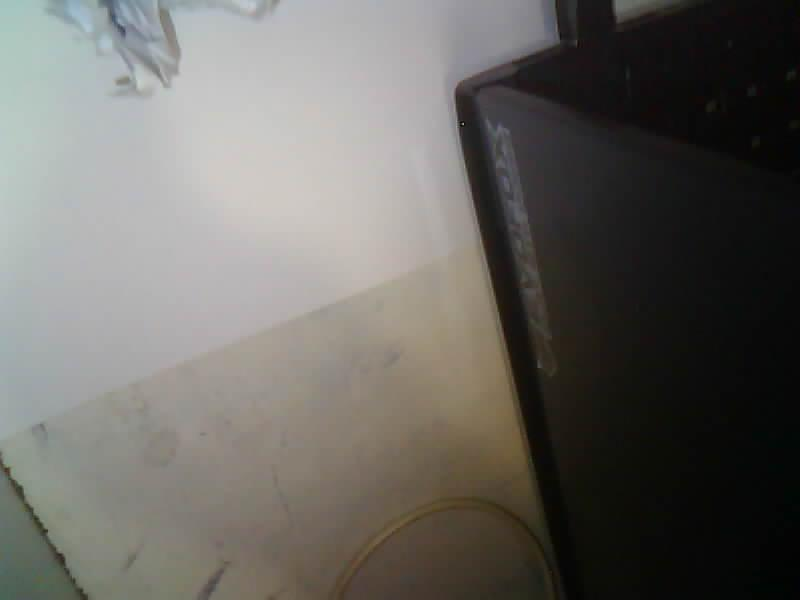biodegradable: (44, 0, 277, 95)
